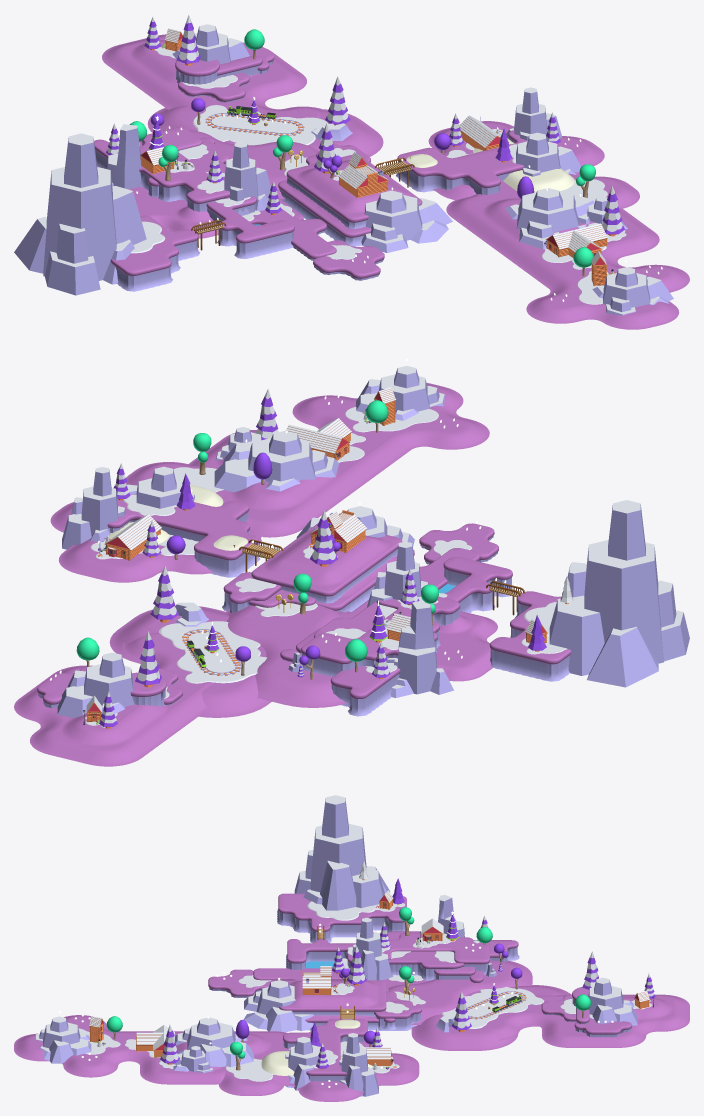
Rendered from SC_Winter_Bliss.fbx.
3 renders of one model, top to bottom at view 1: azimuth 30°, elevation 25°; view 2: azimuth 150°, elevation 25°; view 3: azimuth 270°, elevation 25°, orthographic. The views are drawn at different scales.
Visible parts, largest first — view 1: SM_Rock02.006, SM_Landscape_04.001, SM_Landscape_04, SM_Mound_03.001, SM_Rock02.009, SM_Mound_03.002, SM_Rock02.007, SM_Mound_07, SM_Mound_03, SM_Rock02.005, SM_Rock02.002, SM_Landscape_02.001 (+36 smaller); view 2: SM_Rock02.006, SM_Landscape_04.001, SM_Landscape_04, SM_Landscape_02, SM_Mound_03.001, SM_Rock02.007, SM_Landscape_01, SM_Landscape_02.001, SM_Rock03.001, SM_Mound_03.002, SM_Mound_02, SM_Landscape_01.002 (+32 smaller); view 3: SM_Rock02.006, SM_Landscape_04.001, SM_Landscape_04, SM_Mound_03.002, SM_Landscape_02, SM_Landscape_02.001, SM_Rock02.009, SM_Landscape_01, SM_Rock02.007, SM_Mound_03.001, SM_Mound_03, SM_Rock02.005 (+26 smaller).
Part boxes in pixels (x1,y1,x2,y2): SM_Rock02.006: (14,133,146,295); SM_Landscape_04.001: (459,195,689,329); SM_Landscape_04: (102,34,326,144); SM_Mound_03.001: (396,130,570,195); SM_Rock02.009: (361,190,452,252); SM_Mound_03.002: (110,215,199,291); SM_Rock02.007: (505,188,594,249); SM_Mound_07: (206,196,294,258); SM_Mound_03: (139,127,229,211); SM_Rock02.005: (592,267,673,315); SM_Rock02.002: (224,142,270,215); SM_Landscape_02.001: (147,105,383,156); SM_Rock02.006: (549,500,689,687); SM_Landscape_04.001: (189,383,489,521); SM_Landscape_04: (14,632,266,766); SM_Landscape_02: (223,605,350,707); SM_Mound_03.001: (107,493,260,577); SM_Rock02.007: (214,430,338,491); SM_Landscape_01: (50,490,261,582); SM_Landscape_02.001: (109,605,271,717); SM_Rock03.001: (386,601,454,697); SM_Mound_03.002: (489,591,571,681); SM_Mound_02: (251,549,373,603); SM_Landscape_01.002: (409,611,497,687); SM_Rock02.006: (294,795,389,910); SM_Landscape_04.001: (14,1015,271,1084); SM_Landscape_04: (441,990,689,1047); SM_Mound_03.002: (277,893,408,943); SM_Landscape_02: (388,960,532,1024); SM_Landscape_02.001: (411,985,570,1050); SM_Rock02.009: (243,980,313,1032); SM_Landscape_01: (255,1041,419,1101); SM_Rock02.007: (175,1017,253,1066); SM_Mound_03.001: (283,1019,367,1081); SM_Mound_03: (382,932,489,974); SM_Rock02.005: (35,1016,91,1063).
Bounding box in the file's own units: 224 × 55.79 × 296.
